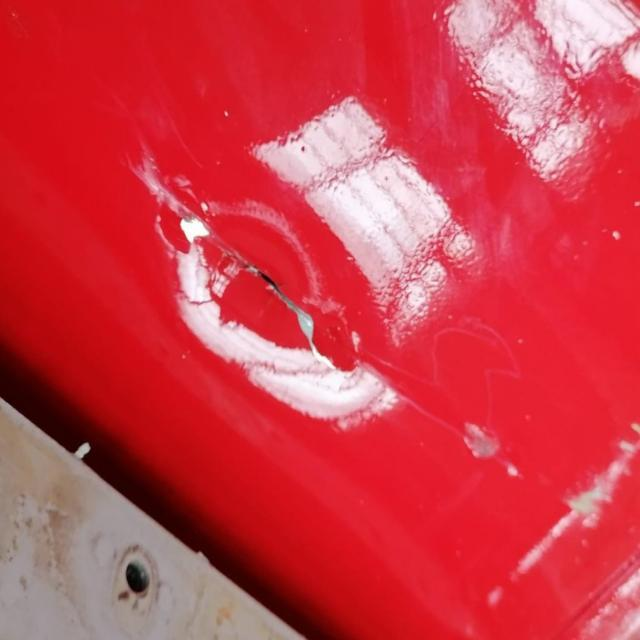crack: (116, 157, 501, 417)
